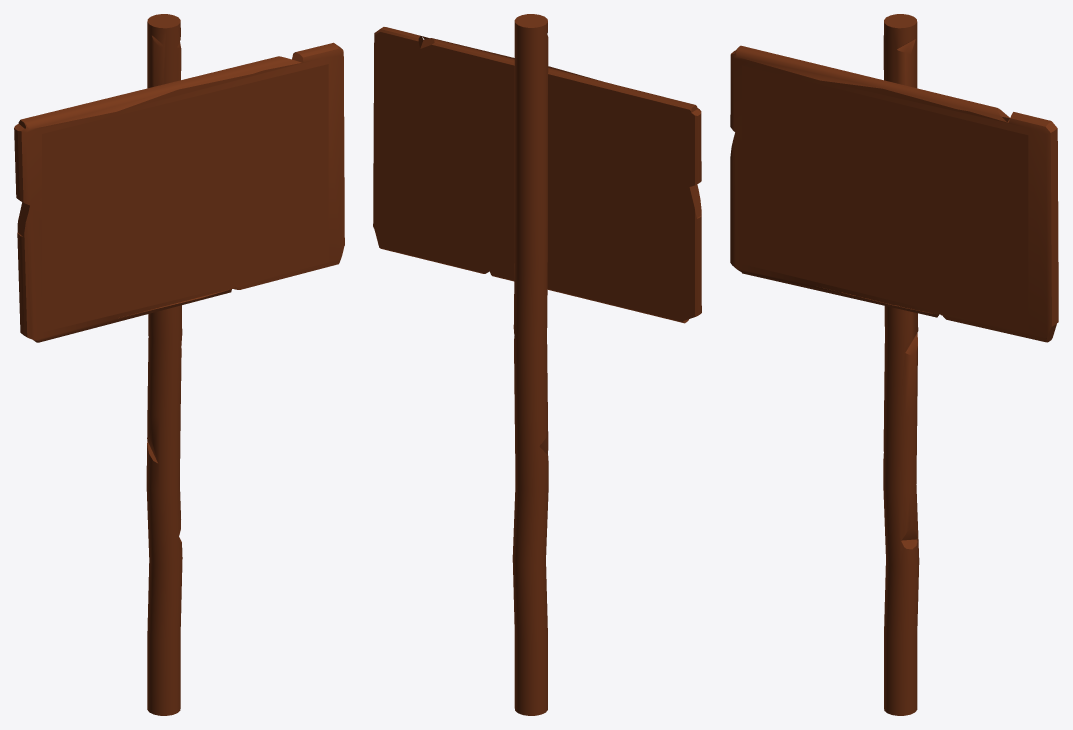
File: sign.glb
The picture shows the model from 3 angles, left to right: view 1: azimuth 30°, elevation 25°; view 2: azimuth 150°, elevation 25°; view 3: azimuth 330°, elevation 25°; orthographic projection.
Parts seen in each view (by area): view 1: sign-text, sign; view 2: sign; view 3: sign-text, sign.
Part boxes in pixels (x1=…): sign-text: x1=42, y1=64, x2=328, y2=332; sign: x1=14, y1=14, x2=344, y2=715; sign: x1=373, y1=14, x2=701, y2=715; sign-text: x1=742, y1=65, x2=1028, y2=333; sign: x1=730, y1=14, x2=1058, y2=715.
Size of the model in its own units: 0.9817 by 1.98 by 0.1403.
